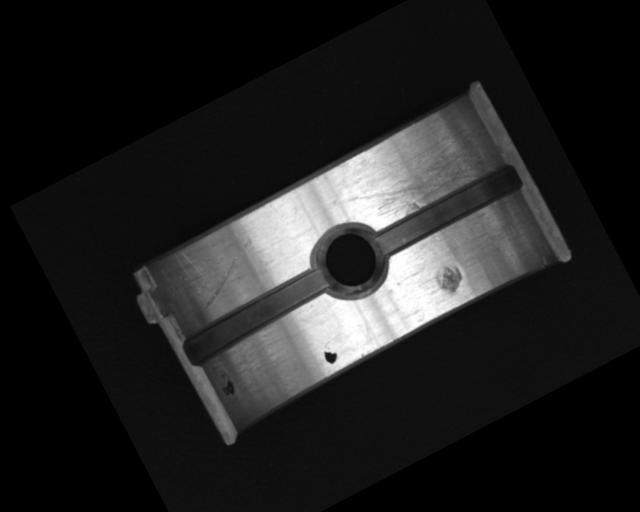blot: (212, 367, 239, 400), (318, 341, 341, 367)
bruise: (430, 259, 469, 298)
gap: (176, 261, 339, 370), (369, 160, 525, 262)
hole: (303, 212, 398, 309)
nick: (183, 236, 272, 312)
scratch: (338, 111, 498, 236)
